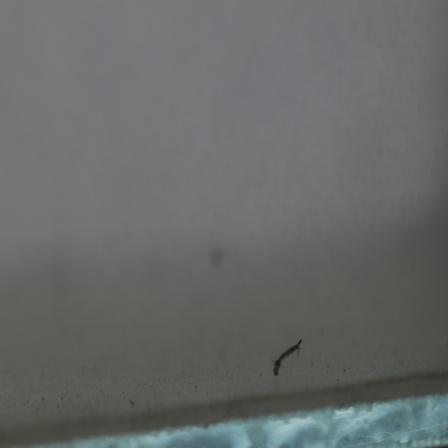Jentik-Nyamuk: (264, 334, 307, 376)
